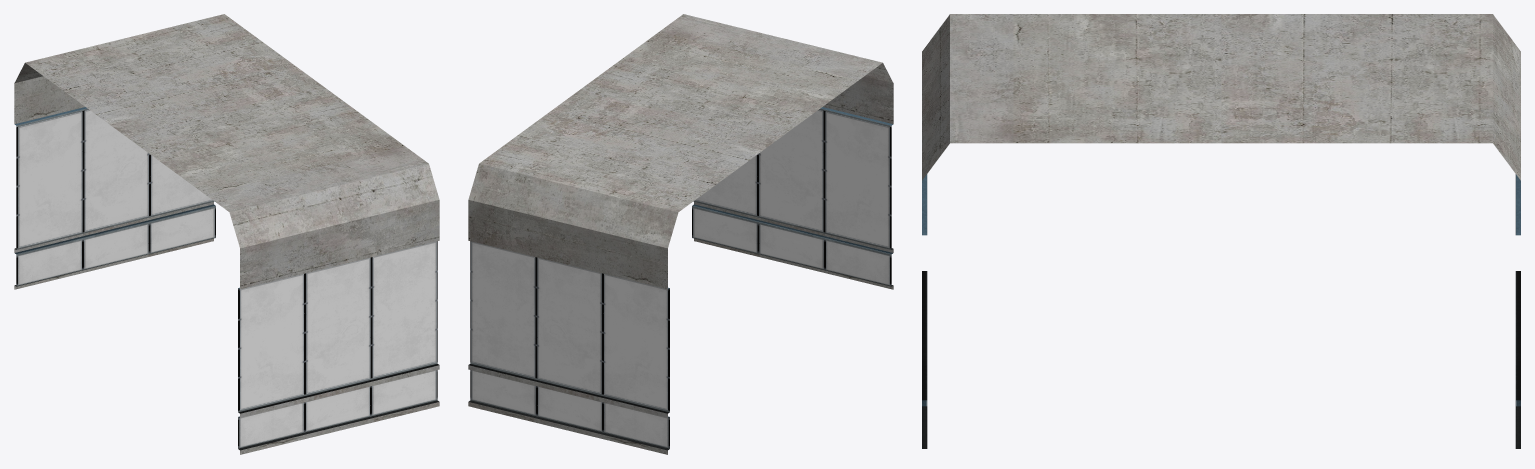
Rendered from Preset_TunnelWallAb.fbx.
3 views of the same model, side by side, from view 1: azimuth 30°, elevation 25°; view 2: azimuth 150°, elevation 25°; view 3: azimuth 270°, elevation 25° (orthographic). The views are drawn at different scales.
Visible parts, largest first — view 1: Wall_Concrete, Wall_SteelB, Wall_SteelA; view 2: Wall_Concrete, Wall_SteelA, Wall_SteelB; view 3: Wall_Concrete, Wall_SteelB, Wall_SteelA.
Part boxes in pixels (bbox=[...]): Wall_Concrete: bbox=[14, 14, 439, 454]; Wall_SteelB: bbox=[238, 241, 439, 450]; Wall_SteelA: bbox=[15, 107, 215, 286]; Wall_Concrete: bbox=[468, 14, 893, 454]; Wall_SteelA: bbox=[468, 241, 669, 450]; Wall_SteelB: bbox=[692, 107, 892, 286]; Wall_Concrete: bbox=[922, 14, 1520, 180]; Wall_SteelB: bbox=[922, 174, 927, 448]; Wall_SteelA: bbox=[1515, 174, 1520, 448].
Bounding box in the file's own units: 400 × 784 × 450.
2 materials, 2 textured.
